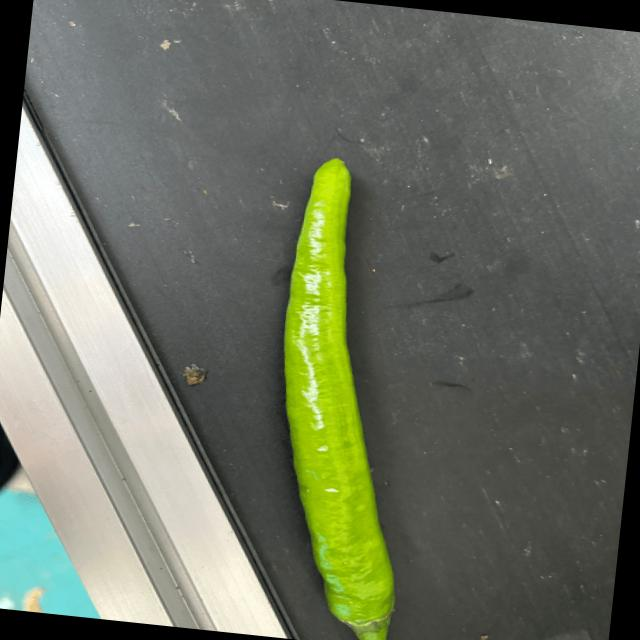chili: (280, 153, 396, 635)
